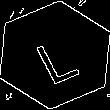L_NW: (28, 26, 82, 84)
